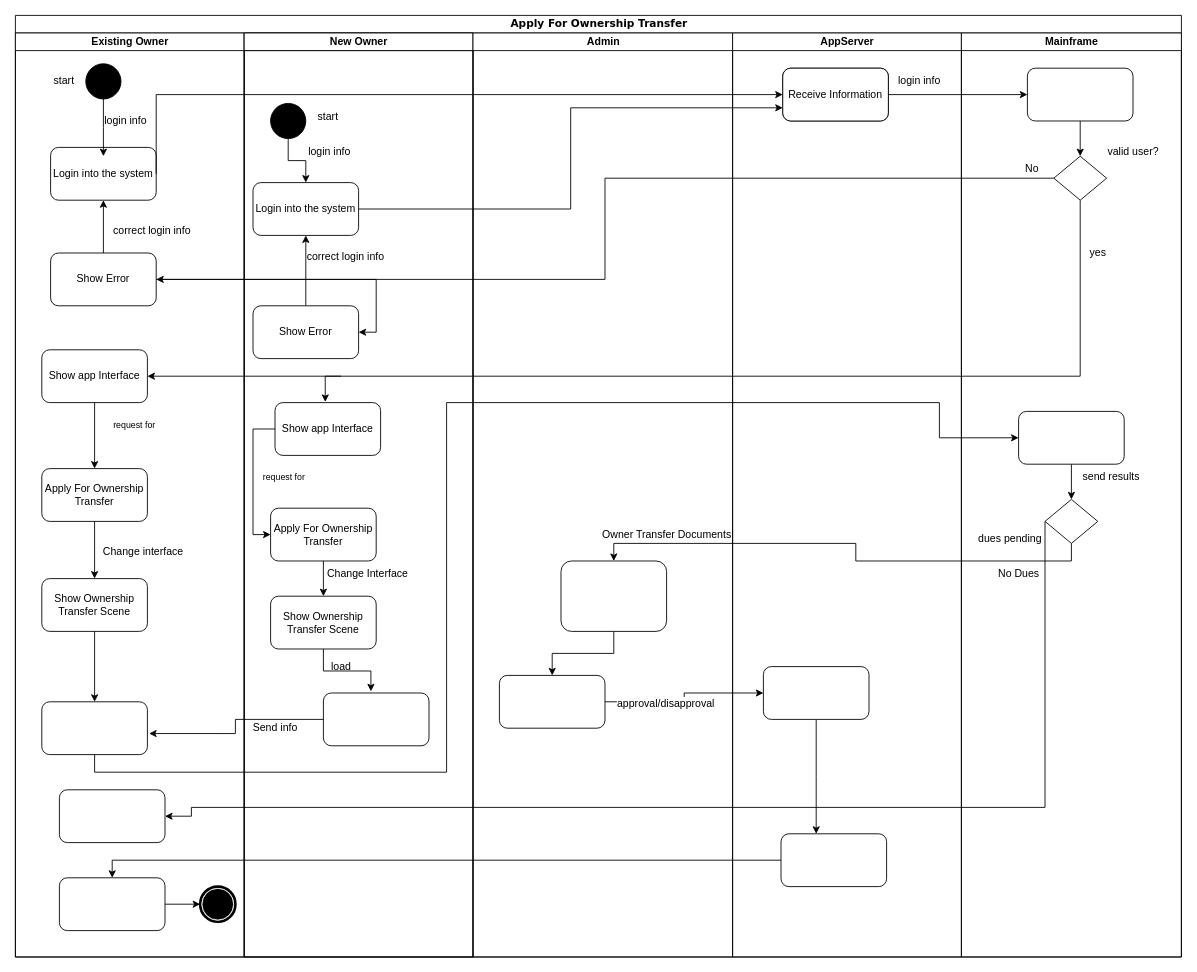
The diagram is 1197 pixels wide and 972 high, and some of its shapes have lost their labels. The centre of each missing label's shape, as x and y in pixels:
Accept/ Reject Ownership Transfer and Update Database if Transfer is Accepted.: (x=552, y=701)
Check records: (x=1080, y=94)
Look up Existing Owner's userID To Check For Any Remaining Dues in Database: (x=1071, y=437)
Make Payments and Get Receipt: (x=112, y=816)
Process Ownership Transfer and Verify Documents: (x=613, y=595)
Receive Result: (x=112, y=904)
Save in Database: (x=816, y=692)
Send Notification: (x=833, y=860)
Send Ownership Transfer Information: (x=376, y=719)
Type New and Existing Owner's Details Required For Ownership Transfer: (x=94, y=728)
